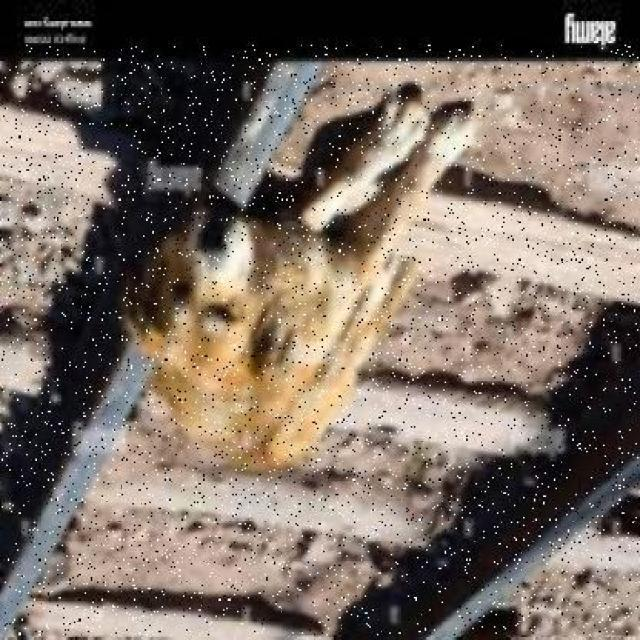rail: (1, 46, 639, 636)
